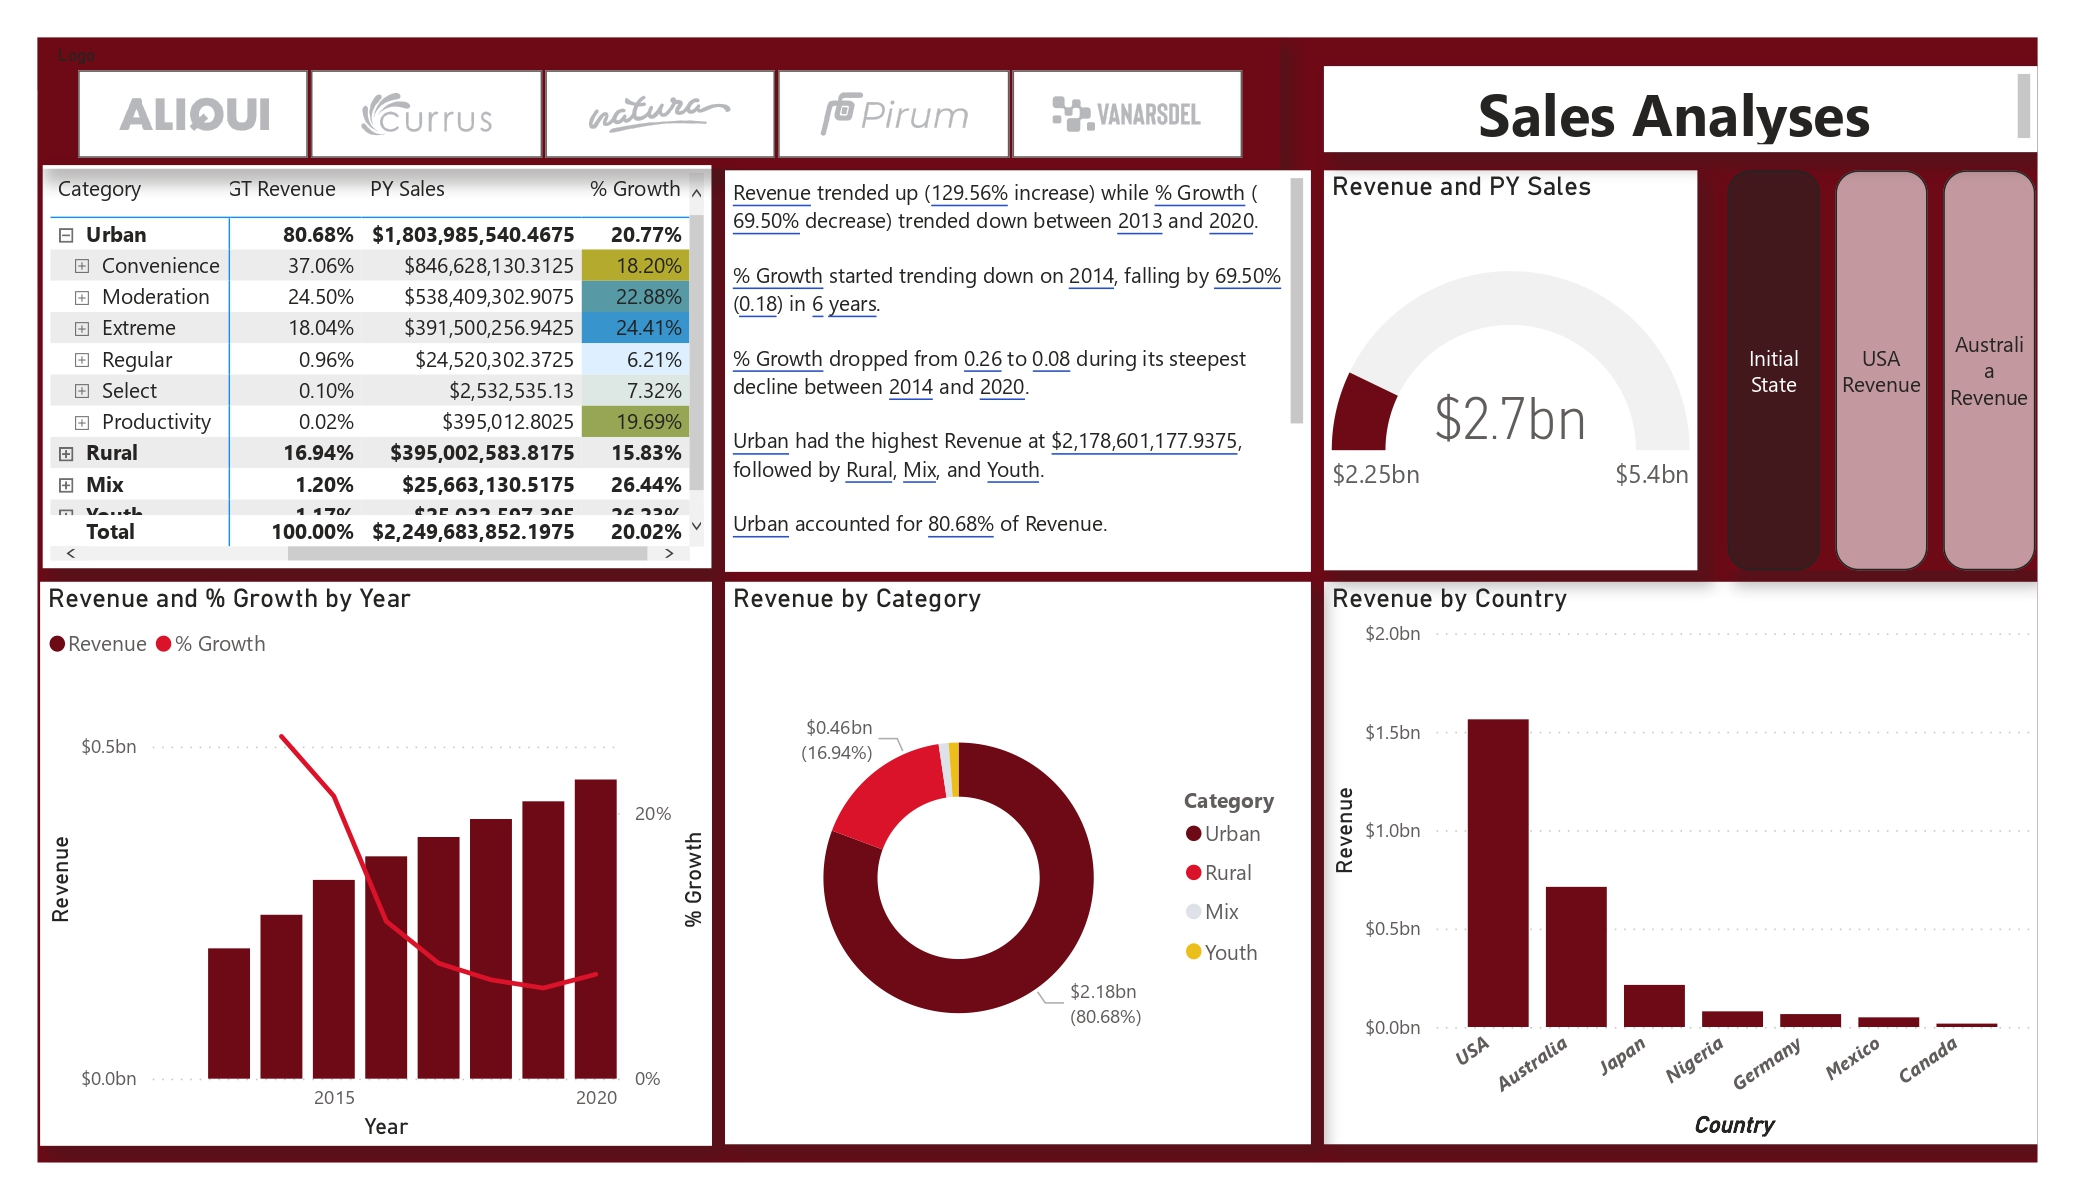

The page's visual inventory and layout, read from the dashboard file:
{"tool":"powerbi","page":{"name":"Manufacturer","canvas":[1280,720],"ordinal":0},"visuals":[{"type":"columnChart","fields":{"Category":["Geography.Country","Geography.State","Geography.District"],"Y":["Sum(Sales.Revenue)"]},"box":[823.3,348.3,456.7,360],"z":0},{"type":"pivotTable","fields":{"Values":["Sum(Sales.Revenue)","Divide(Sum(Sales.Revenue), ScopedEval(Sum(Sales.Revenue), []))","Sales.PY Sales","Sales.% Growth"],"Rows":["Product.Product Hierarchy.Category","Product.Product Hierarchy.Segment","Product.Product Hierarchy.Product"]},"box":[3.3,81.7,428.3,258.3],"z":1000},{"type":"lineClusteredColumnComboChart","fields":{"Category":["Date.Date.Variation.Date Hierarchy.Year","Date.Date.Variation.Date Hierarchy.Quarter","Date.Date.Variation.Date Hierarchy.Month","Date.Date.Variation.Date Hierarchy.Day"],"Y":["Sum(Sales.Revenue)"],"Y2":["Sales.% Growth"]},"box":[1.6,348.3,429.5,360.8],"z":2000},{"type":"slicer","fields":{"Values":["Manufacturer.Logo"]},"box":[0,0,795,84.3],"z":3000},{"type":"gauge","fields":{"Y":["Sum(Sales.Revenue)"],"MinValue":["Sales.PY Sales"]},"box":[823.1,84.3,238.9,256.1],"z":8000},{"type":"bookmarkNavigator","box":[1082.3,84.3,198.3,256.1],"z":9000},{"type":"donutChart","fields":{"Category":["Product.Category"],"Y":["Sum(Sales.Revenue)"]},"box":[440,348.3,375,360],"z":10001},{"type":"shape","box":[823.3,18.3,456.7,55],"z":10002},{"type":"textbox","box":[823.3,18.3,456.7,55],"z":10003},{"type":"textbox","box":[440,85,375,256.7],"z":10004}]}

Visuals, with their boxes in screenshot pixels (x1, y1, x2, y2):
columnChart - Geography.Country x Geography.State: [x1=1324, y1=582, x2=2038, y2=1144]
pivotTable - Sum(Sales.Revenue) x Divide(Sum(Sales.Revenue), ScopedEval(Sum(Sales.Revenue), [])): [x1=43, y1=165, x2=712, y2=569]
lineClusteredColumnComboChart - Date.Date.Variation.Date Hierarchy.Year x Date.Date.Variation.Date Hierarchy.Quarter: [x1=40, y1=582, x2=711, y2=1145]
slicer - Manufacturer.Logo: [x1=38, y1=38, x2=1280, y2=169]
gauge - Sum(Sales.Revenue) x Sales.PY Sales: [x1=1324, y1=169, x2=1697, y2=569]
bookmarkNavigator: [x1=1729, y1=169, x2=2038, y2=569]
donutChart - Product.Category x Sum(Sales.Revenue): [x1=725, y1=582, x2=1311, y2=1144]
shape: [x1=1324, y1=66, x2=2038, y2=152]
textbox: [x1=1324, y1=66, x2=2038, y2=152]
textbox: [x1=725, y1=170, x2=1311, y2=571]
